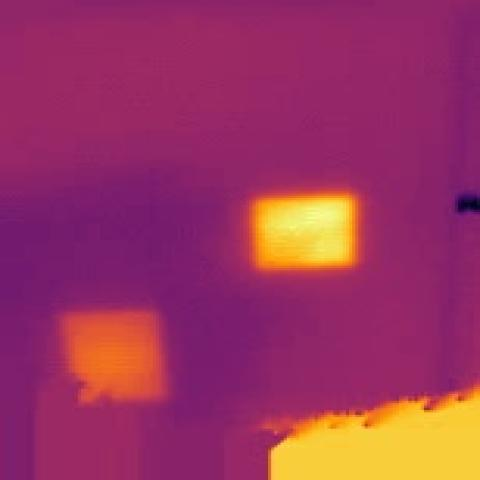fault: (262, 387, 480, 480), (53, 306, 180, 408), (247, 190, 358, 278)
